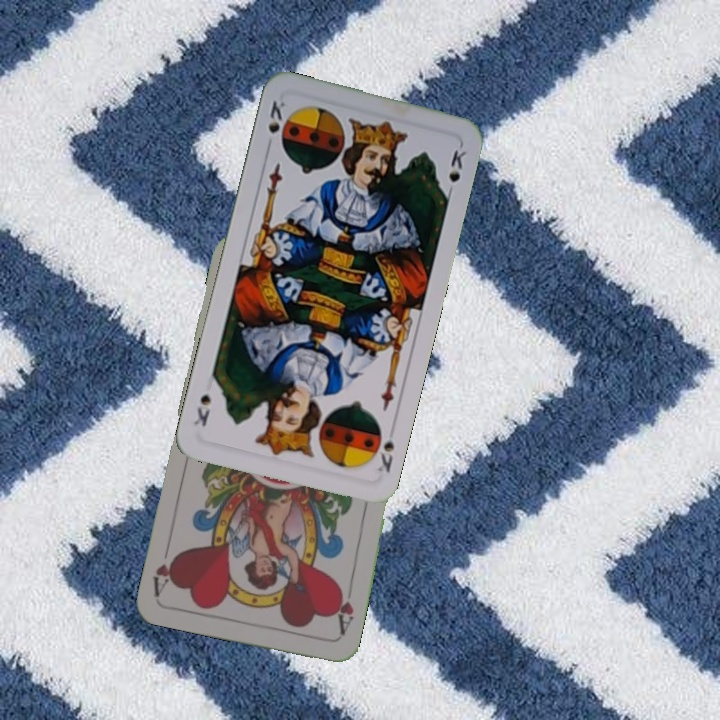HA: (330, 580, 356, 638)
SK: (264, 96, 288, 136), (373, 437, 397, 475)
